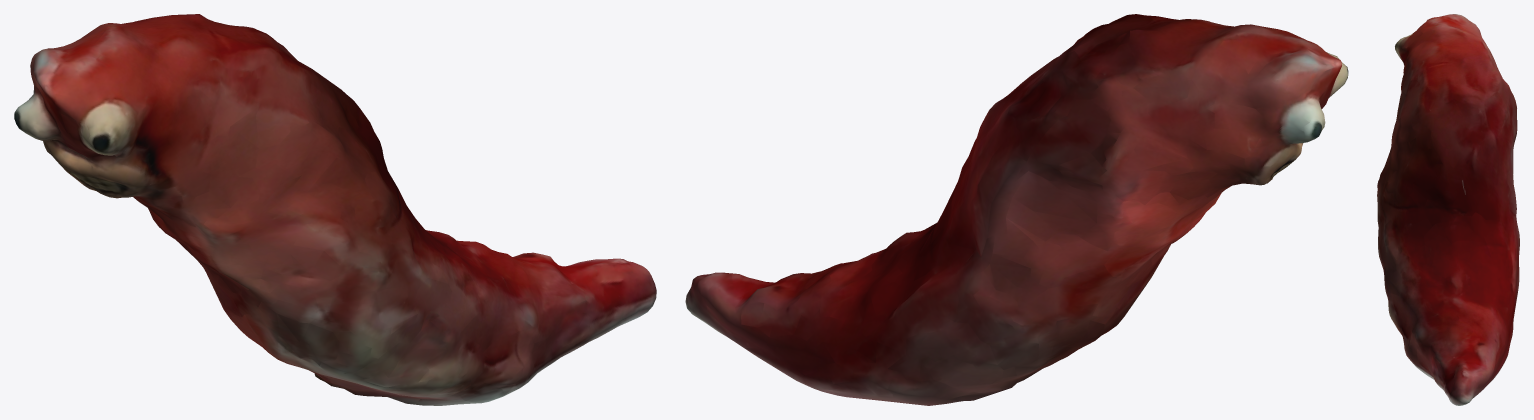
The model's file is yamWalkyamWalk02.fbx.
3 views of the same model, side by side, from view 1: azimuth 30°, elevation 25°; view 2: azimuth 150°, elevation 25°; view 3: azimuth 270°, elevation 25° (orthographic). The views are drawn at different scales.
Parts seen in each view (by area): view 1: yamWalk02; view 2: yamWalk02; view 3: yamWalk02.
Boxes of the visible parts, left/top/right/bottom form: yamWalk02: left=14, top=14, right=656, bottom=405; yamWalk02: left=685, top=14, right=1348, bottom=405; yamWalk02: left=1377, top=14, right=1519, bottom=405.
Bounding box in the file's own units: 0.0985 × 0.0648 × 0.034.
Materials: 1 (1 with a texture image).
